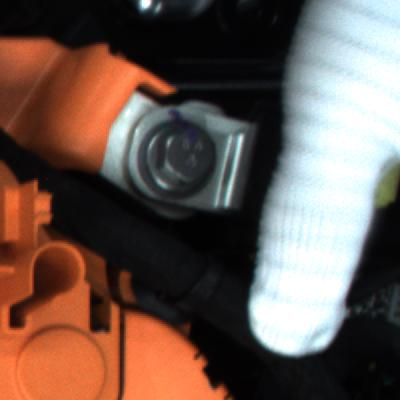nut_b: (129, 116, 216, 205)
